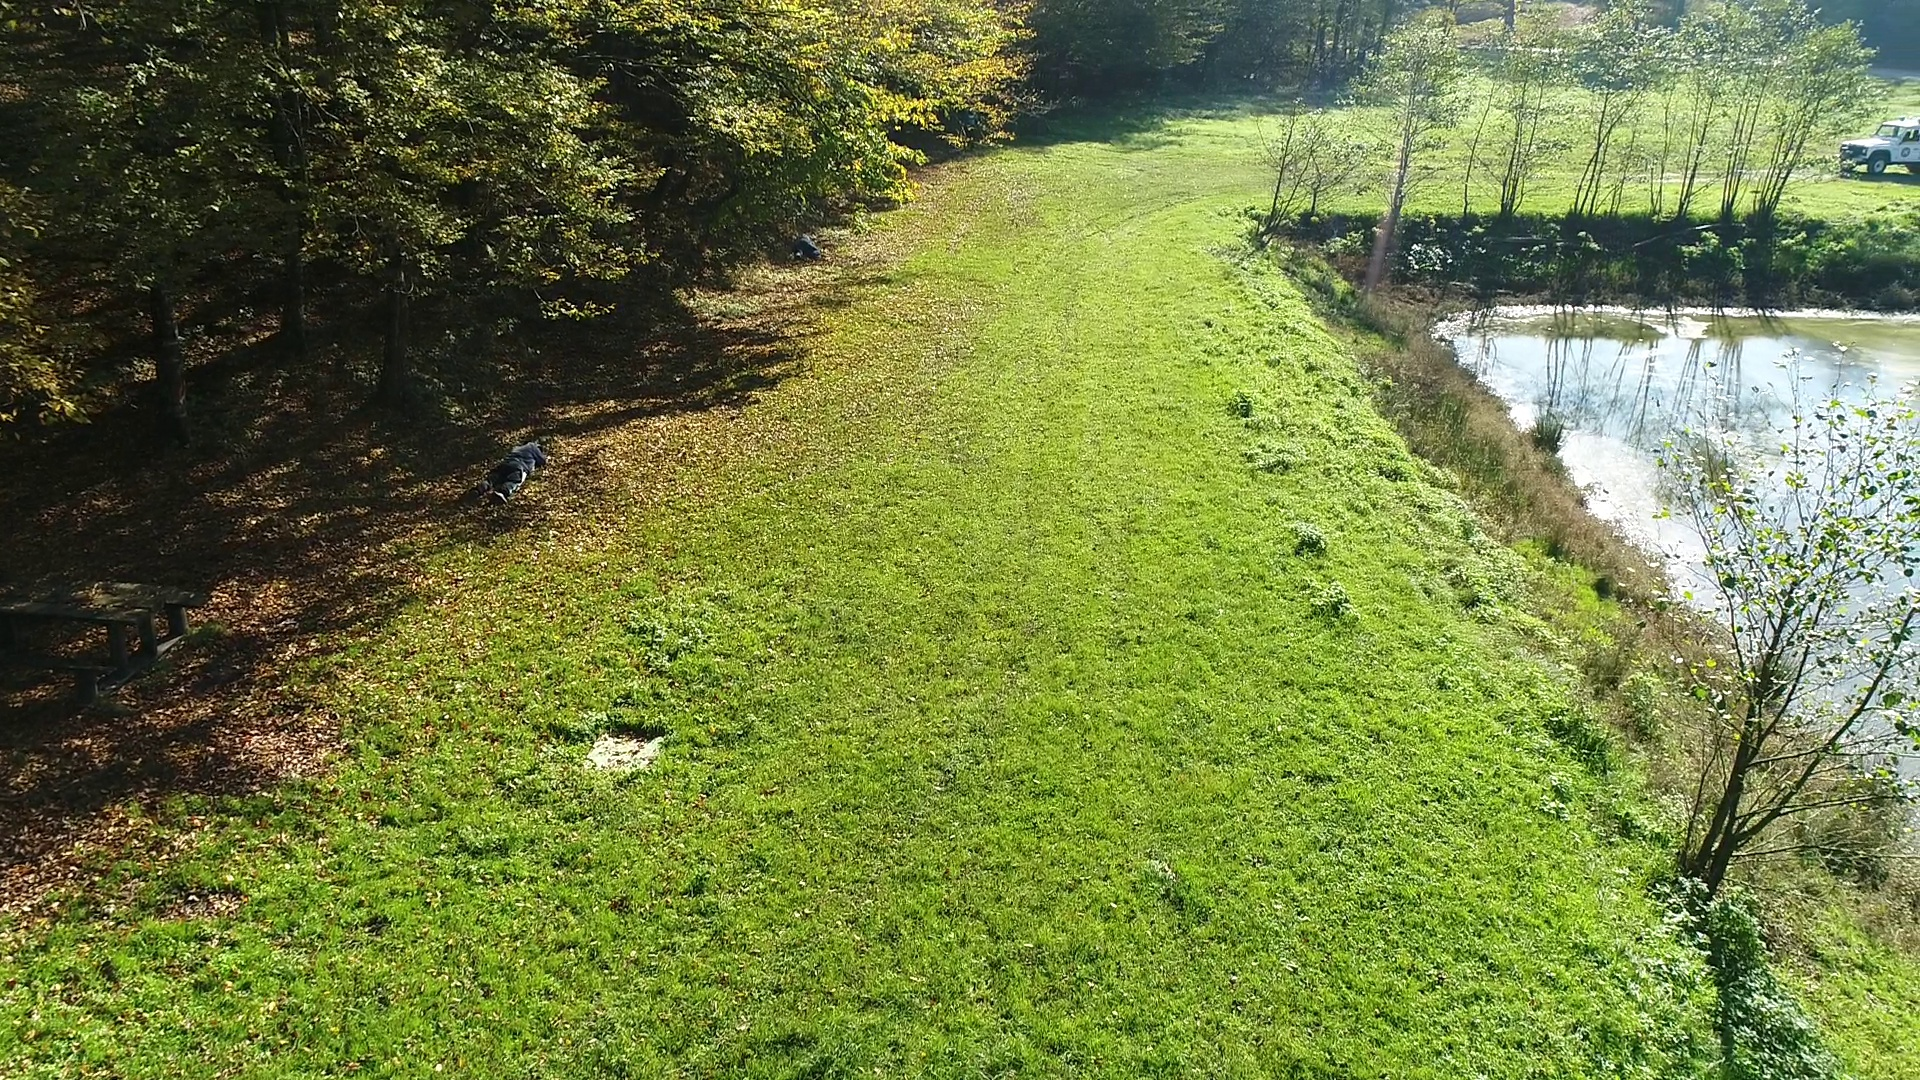person: (459, 441, 548, 505), (960, 106, 978, 152), (792, 232, 821, 260)
